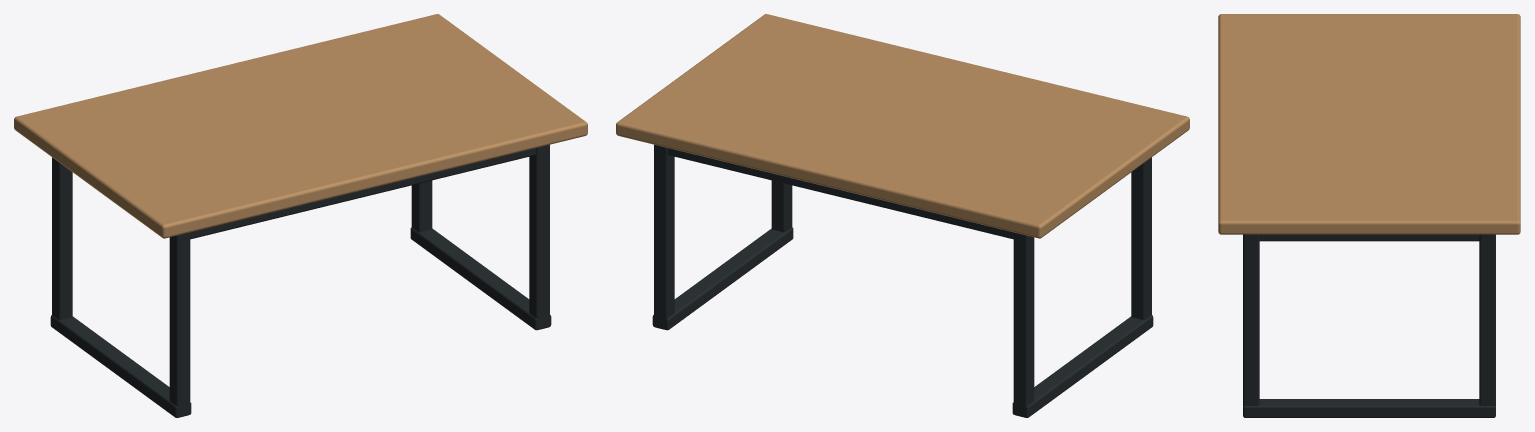
File: coffeeTable-3.glb
3 renders of one model, left to right at view 1: azimuth 30°, elevation 25°; view 2: azimuth 150°, elevation 25°; view 3: azimuth 270°, elevation 25°, orthographic.
Visible parts, largest first — view 1: coffeeTable:3:archviz; view 2: coffeeTable:3:archviz; view 3: coffeeTable:3:archviz.
Boxes of the visible parts, <box> form: coffeeTable:3:archviz: <box>14,14,587,417</box>; coffeeTable:3:archviz: <box>616,14,1189,417</box>; coffeeTable:3:archviz: <box>1218,14,1520,417</box>.
Bounding box in the file's own units: 0.9 × 0.42 × 0.55.
